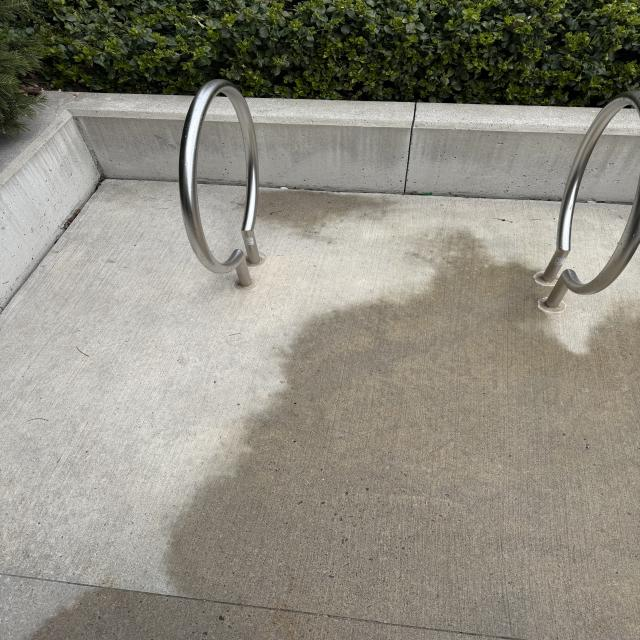Bicycle Rack: (536, 94, 640, 312), (174, 78, 264, 288)
